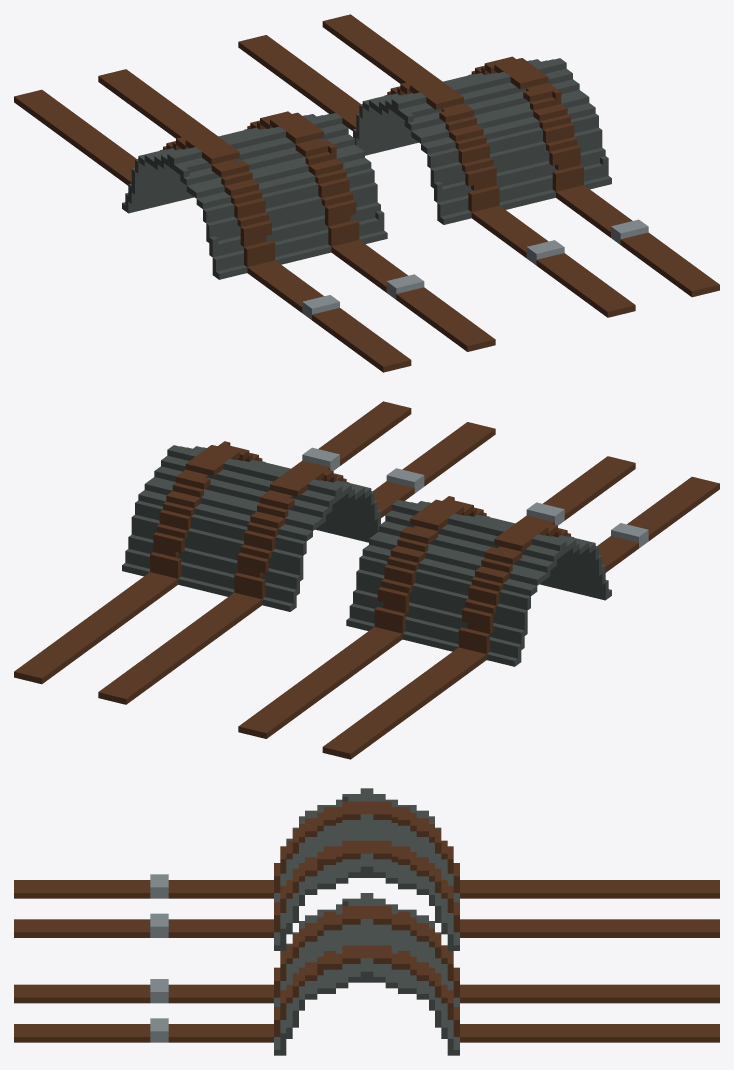
File: armguard_metal_sheets_elbows.glb
3 views of the same model, one above another, from view 1: azimuth 30°, elevation 25°; view 2: azimuth 150°, elevation 25°; view 3: azimuth 270°, elevation 25° (orthographic). The views are drawn at different scales.
Visible parts, largest first — view 1: armguard_metal_sheets_elbows:compound; view 2: armguard_metal_sheets_elbows:compound; view 3: armguard_metal_sheets_elbows:compound.
Part boxes in pixels (left/top/right/bottom): armguard_metal_sheets_elbows:compound: left=14, top=14, right=719, bottom=372; armguard_metal_sheets_elbows:compound: left=14, top=401, right=719, bottom=759; armguard_metal_sheets_elbows:compound: left=14, top=788, right=719, bottom=1055.
Bounding box in the file's own units: 0.28 × 0.06 × 0.456.
